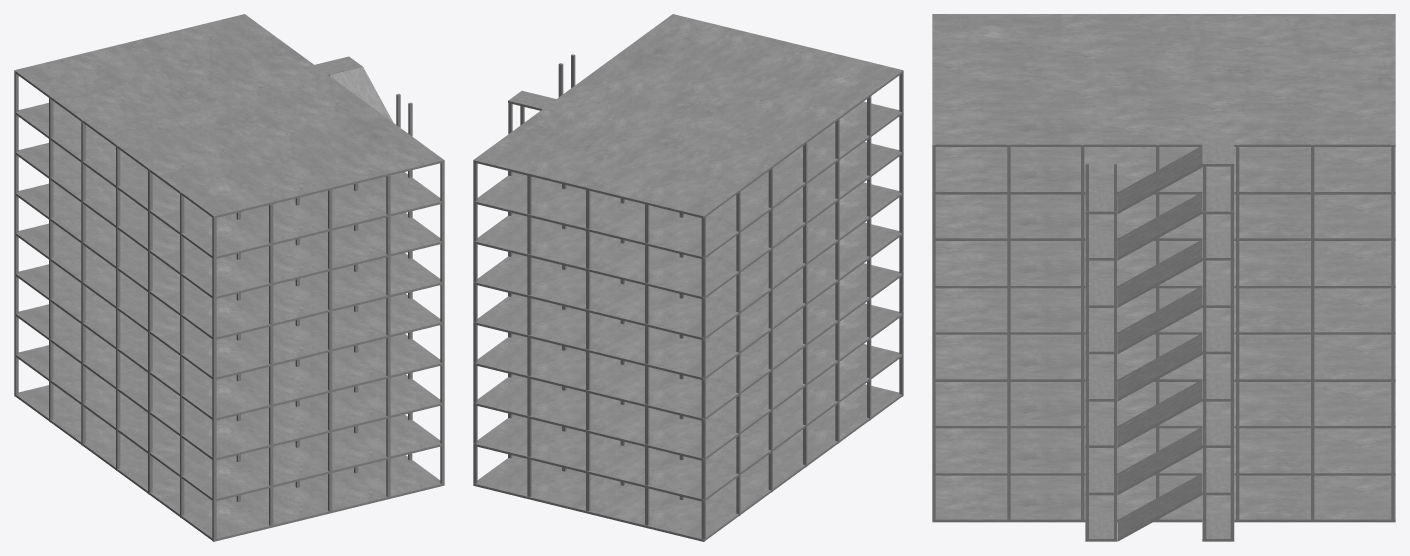
Rendered from buildingstairs.obj.
The picture shows the model from 3 angles, left to right: view 1: azimuth 30°, elevation 25°; view 2: azimuth 150°, elevation 25°; view 3: azimuth 270°, elevation 25°; orthographic projection. The views are drawn at different scales.
Visible parts, largest first — view 1: Box689, Box659, Box093, Box494, Box322, Box179, Box001, Box517, Box351; view 2: Box689, Box659, Box494, Box093, Box322, Box351, Box001, Box179, Box517; view 3: Box689, Box659, Box517, Box093, Box494, Box322, Box001, Box351, Box179, Box172, Box431, Box341 (+3 smaller).
Boxes of the visible parts, x1,y1,x2,y2 form: Box689: (14, 14, 443, 217); Box659: (16, 67, 441, 258); Box093: (16, 344, 441, 500); Box494: (16, 182, 441, 339); Box322: (16, 263, 441, 420); Box179: (16, 304, 441, 460); Box001: (16, 384, 441, 540); Box517: (16, 142, 441, 298); Box351: (16, 223, 441, 379); Box689: (473, 14, 902, 218); Box659: (473, 101, 901, 259); Box494: (473, 182, 901, 340); Box093: (473, 344, 901, 501); Box322: (473, 263, 901, 420); Box351: (473, 222, 901, 380); Box001: (473, 384, 901, 541); Box179: (473, 303, 901, 460); Box517: (473, 142, 901, 299); Box689: (932, 14, 1395, 166); Box659: (935, 146, 1395, 214); Box517: (935, 192, 1395, 260); Box093: (935, 428, 1395, 475); Box494: (935, 241, 1395, 288); Box322: (935, 334, 1395, 381); Box001: (935, 475, 1395, 522); Box351: (935, 288, 1395, 334); Box179: (935, 382, 1395, 428); Box172: (1085, 427, 1234, 495); Box431: (1085, 286, 1234, 354); Box341: (1085, 333, 1234, 401).
Bounding box in the file's own units: 22.94 × 26.84 × 29.84.
1 material, 1 textured.
